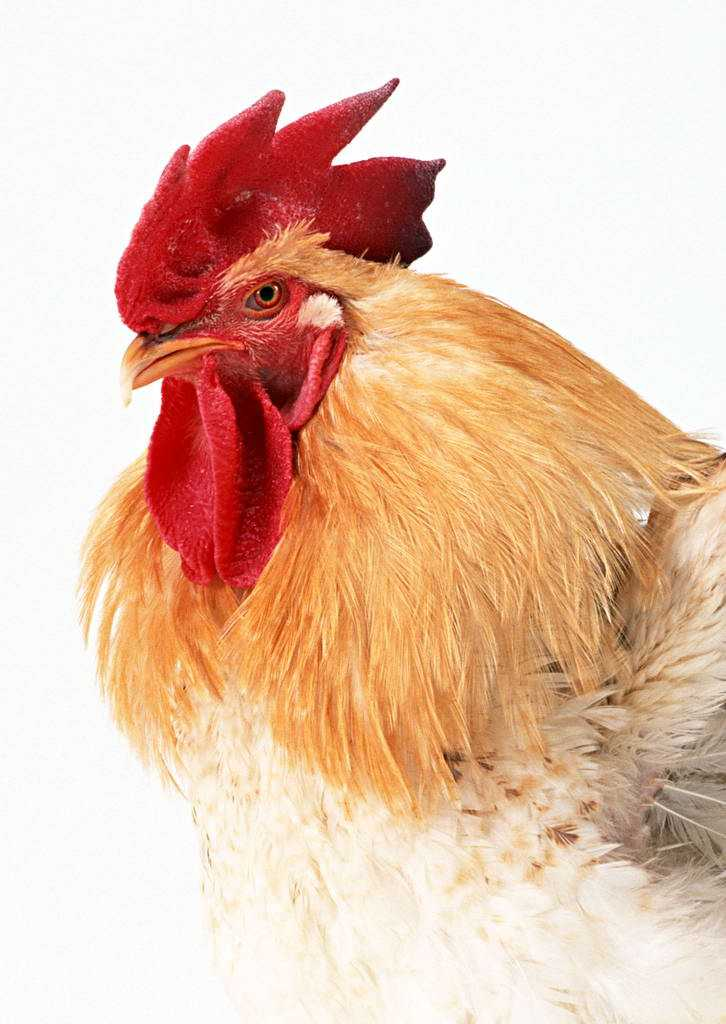chicken: (54, 82, 726, 1005)
